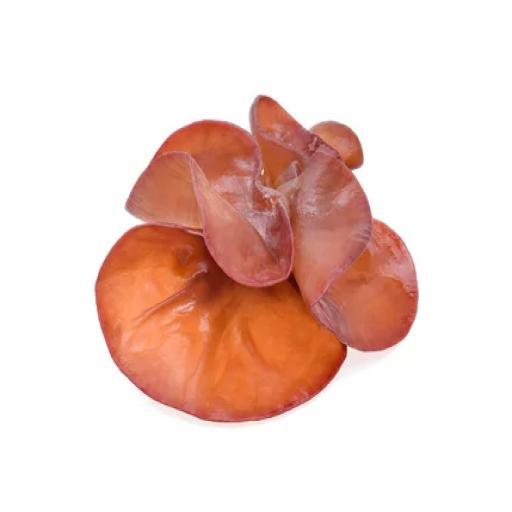Wood Ear Mushroom: (96, 88, 422, 418)
